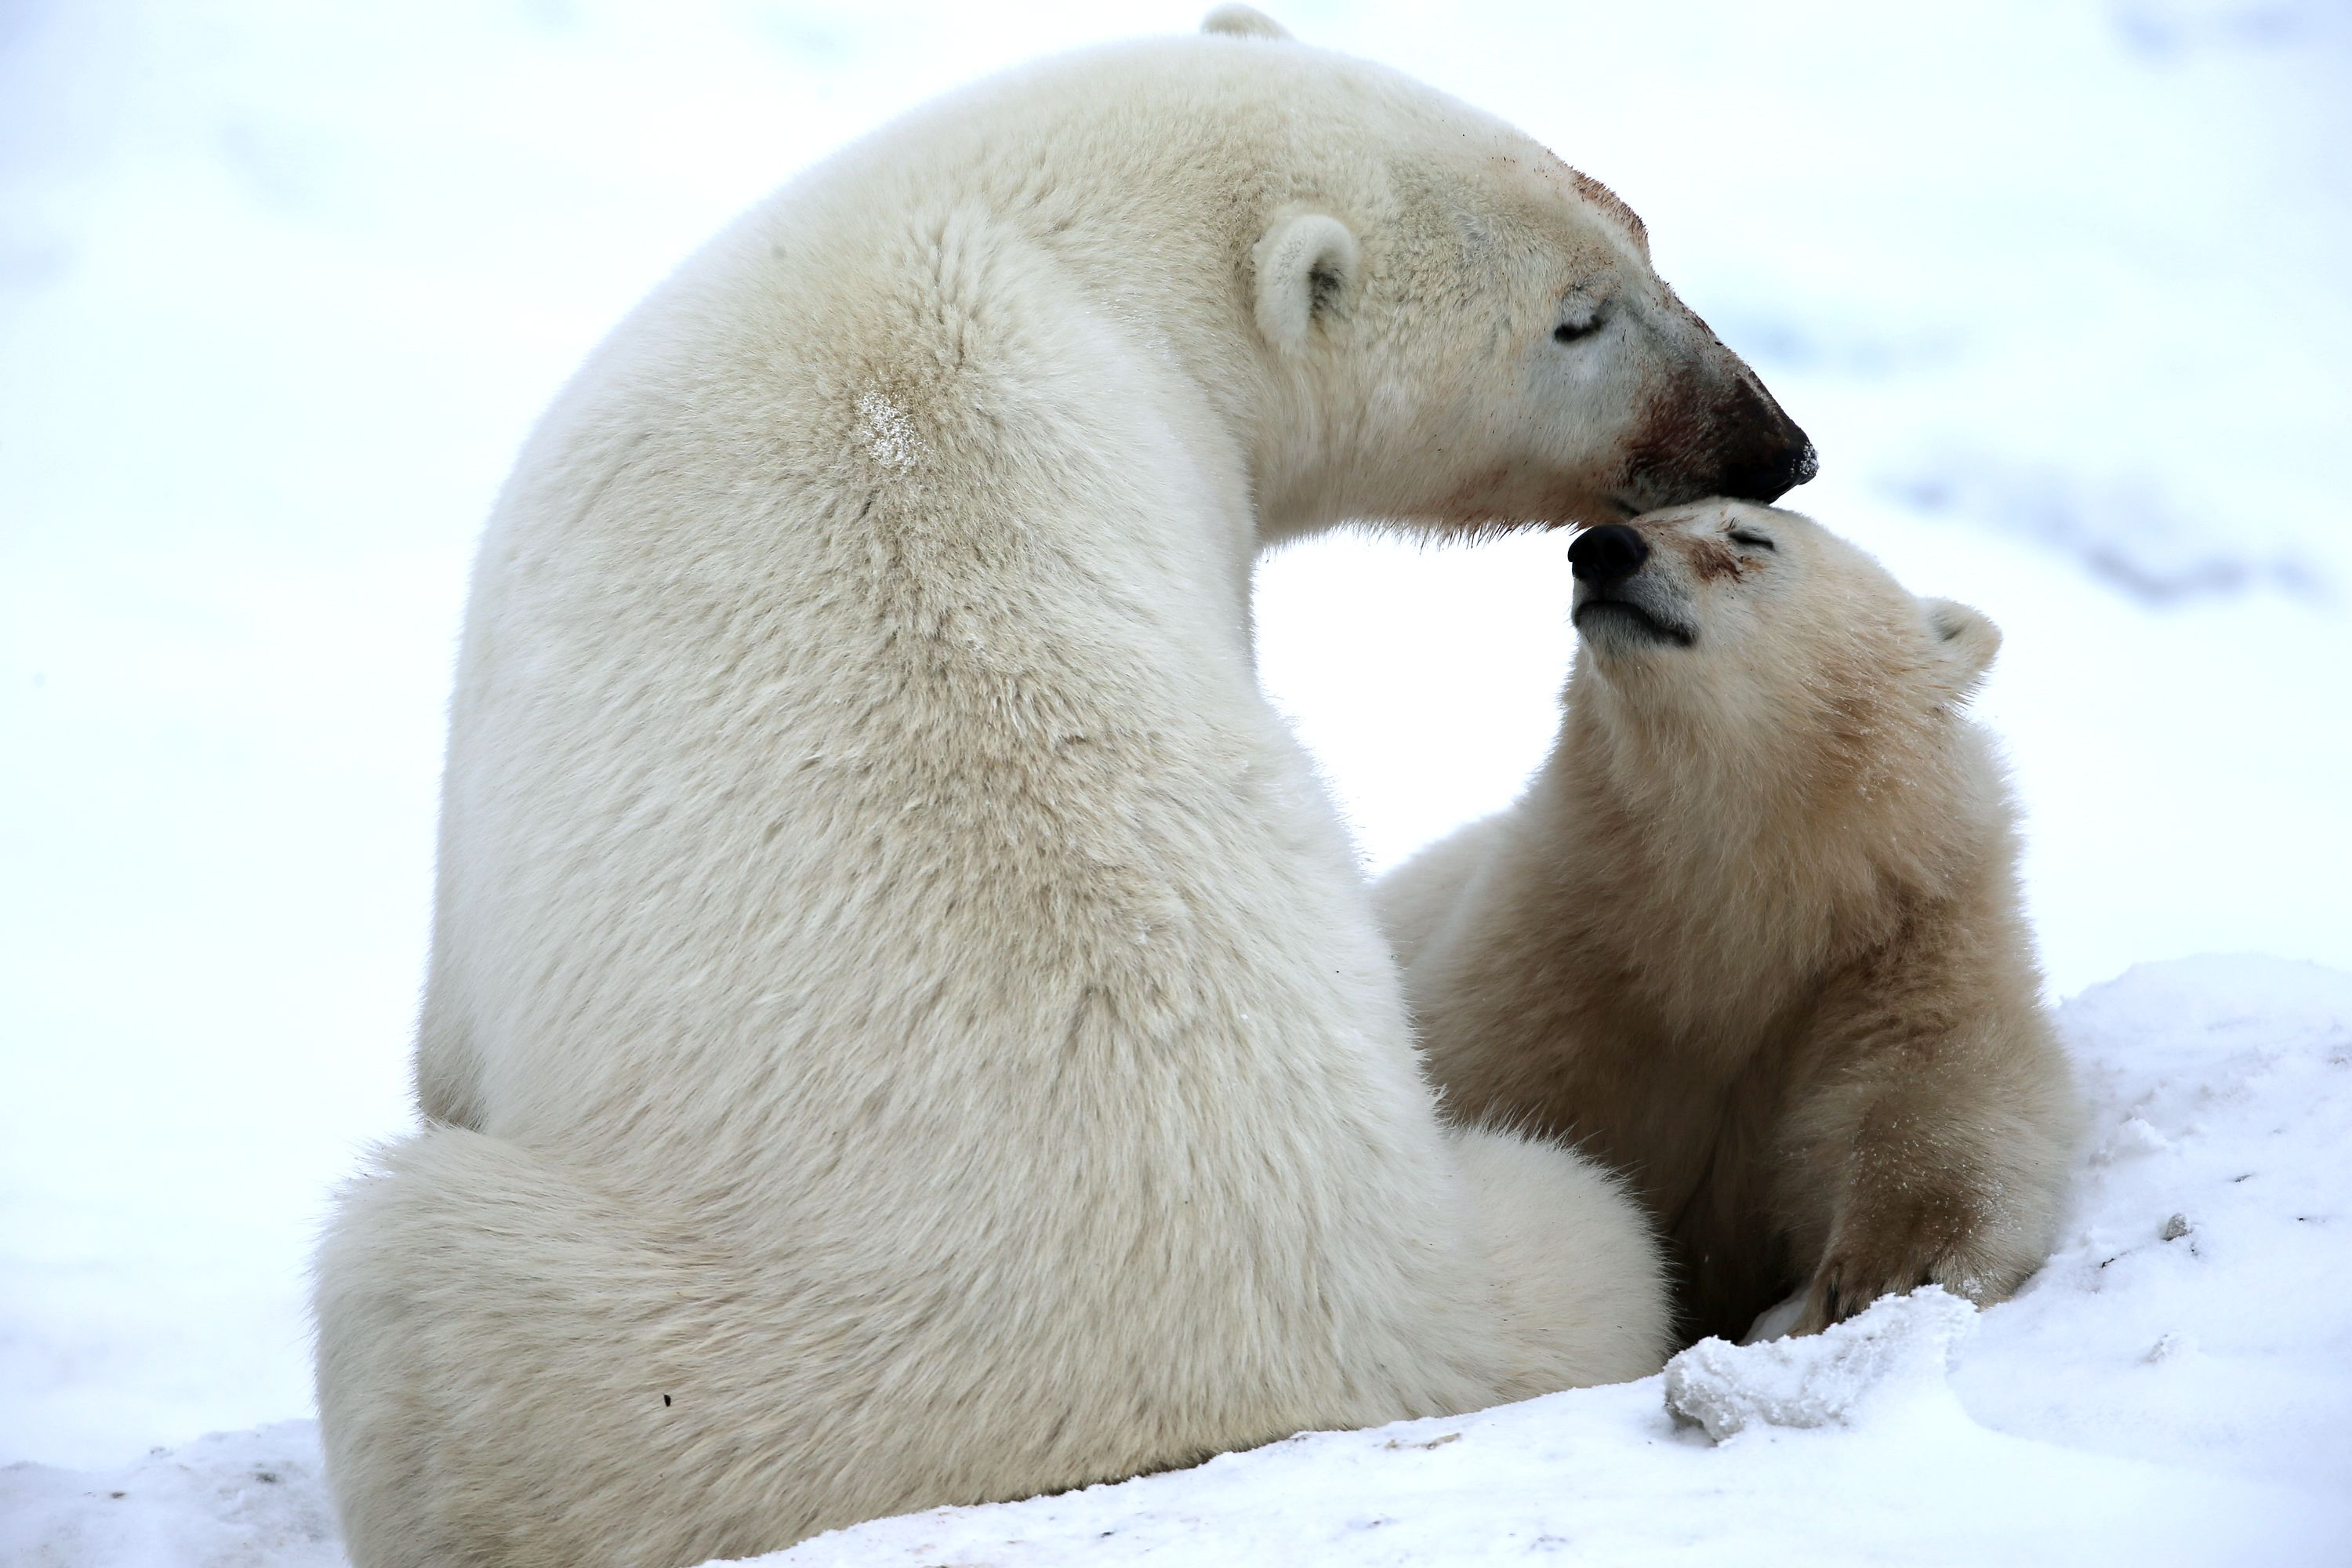Polar Bear: (96, 70, 1613, 1568), (1496, 471, 2130, 1374)
